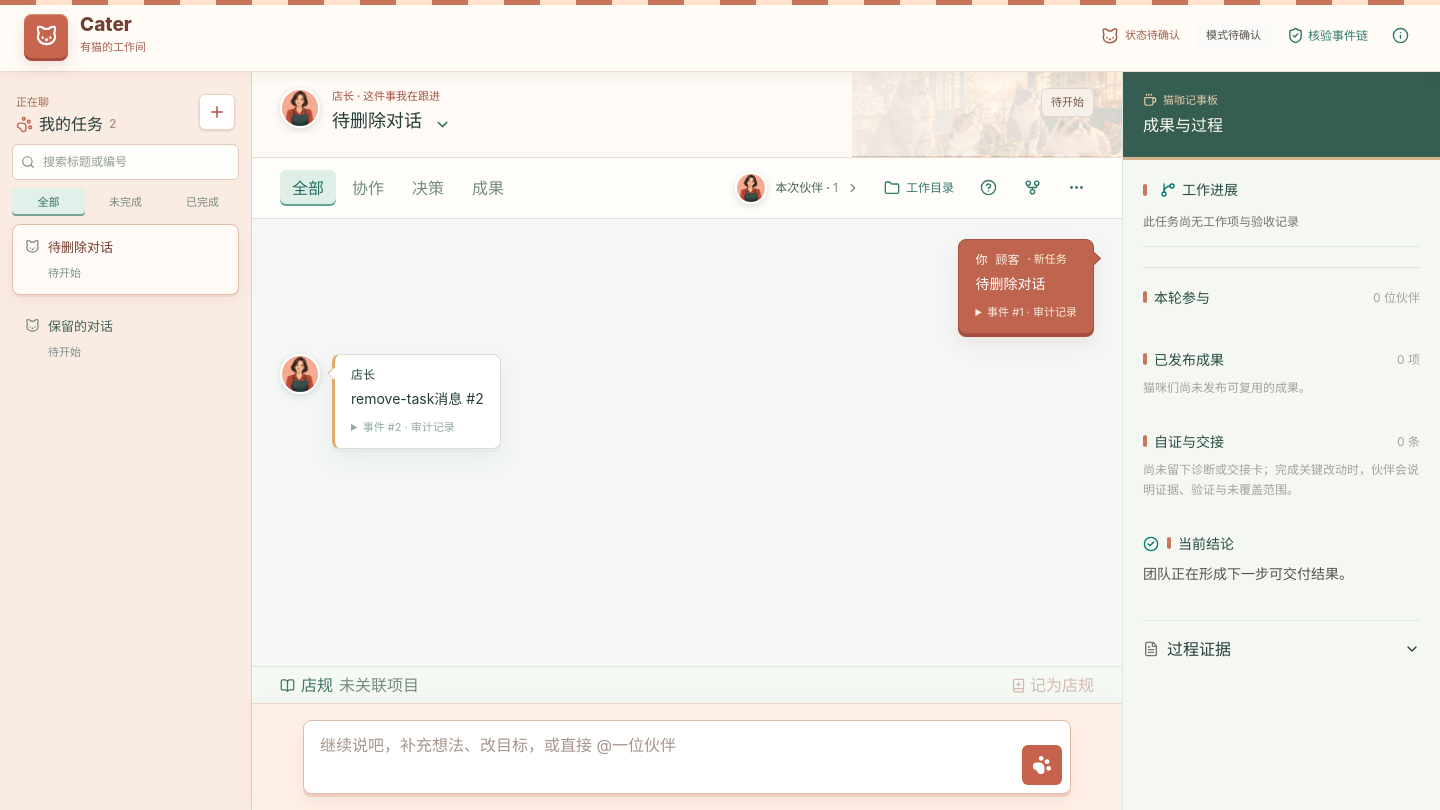
Test: 未知删除 ack 不隐藏或清除输入，重试保留原请求：{}
Type "不能丢失的草稿" into the text box named "向团队发送消息". click: [663, 757]
box: [312,729,1014,785]
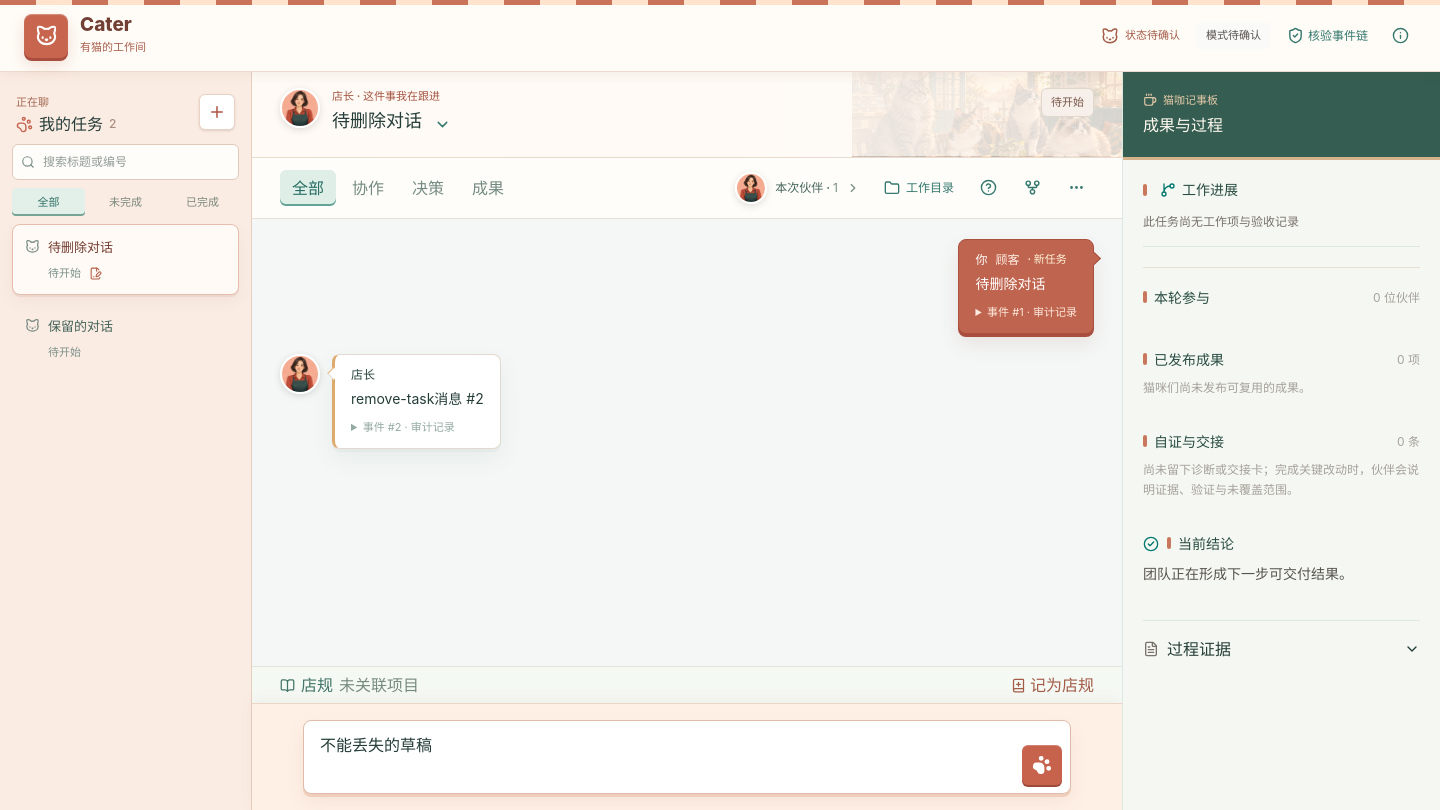
Click the button named "更多任务操作". click: [1076, 188]
box: [1058,170,1094,206]
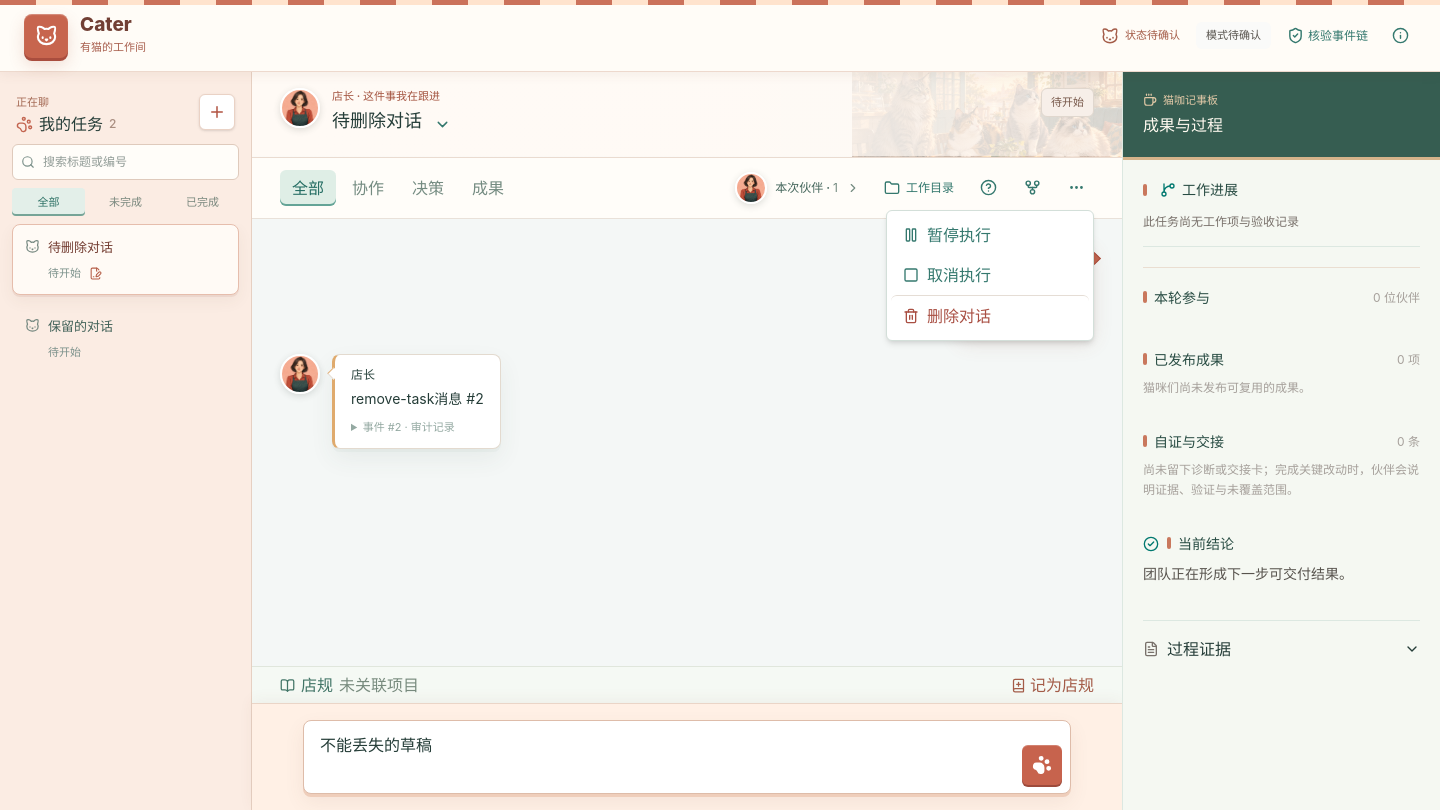
Click the button "删除对话". click: [990, 315]
box: [891,294,1089,336]
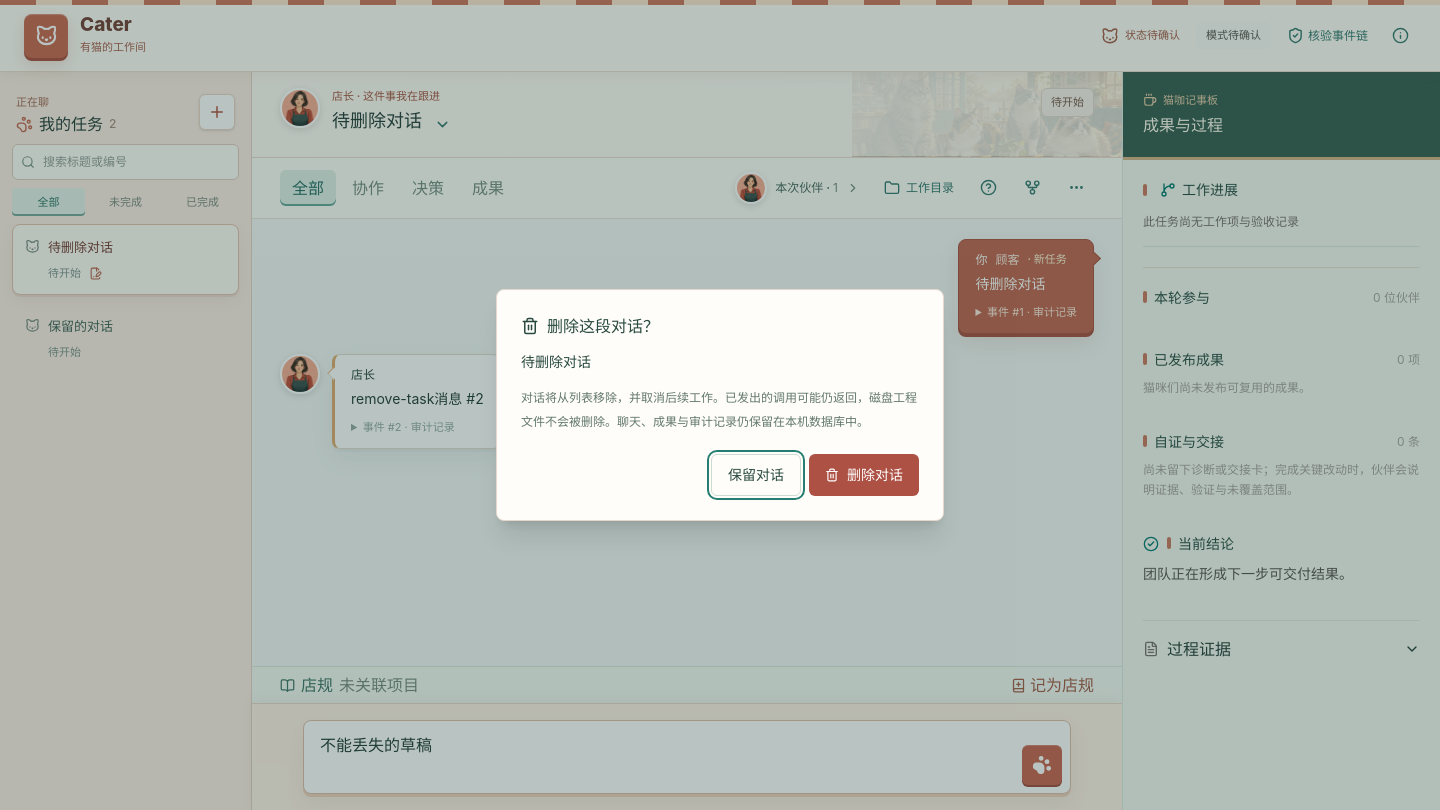
Click the button "删除对话". click: [864, 475]
box: [809,454,919,496]
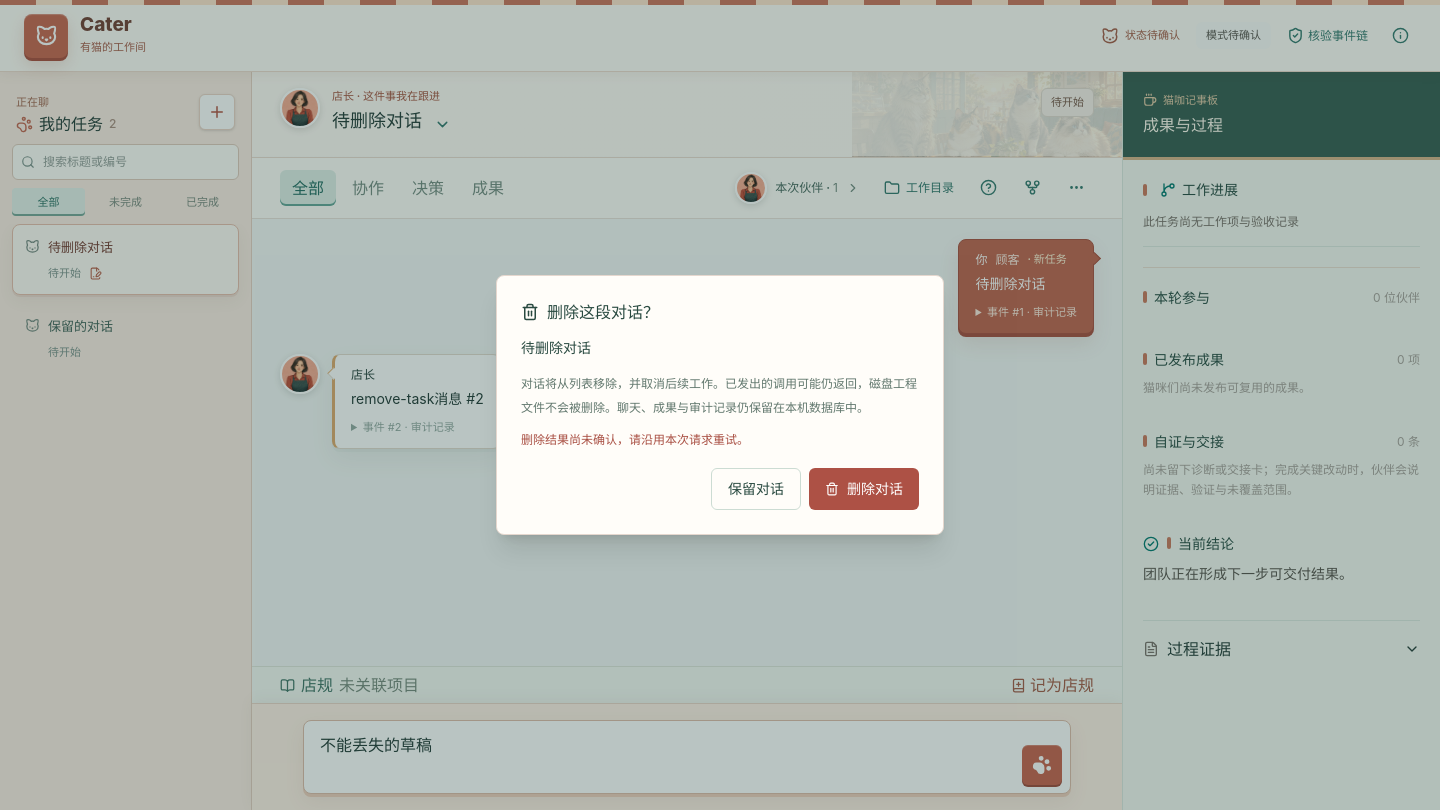
expect the navigation bar named "任务列表" shows "待删除对话": met, box [12,224,239,294]
Click the button "删除对话". click: [864, 489]
box: [809,468,919,510]
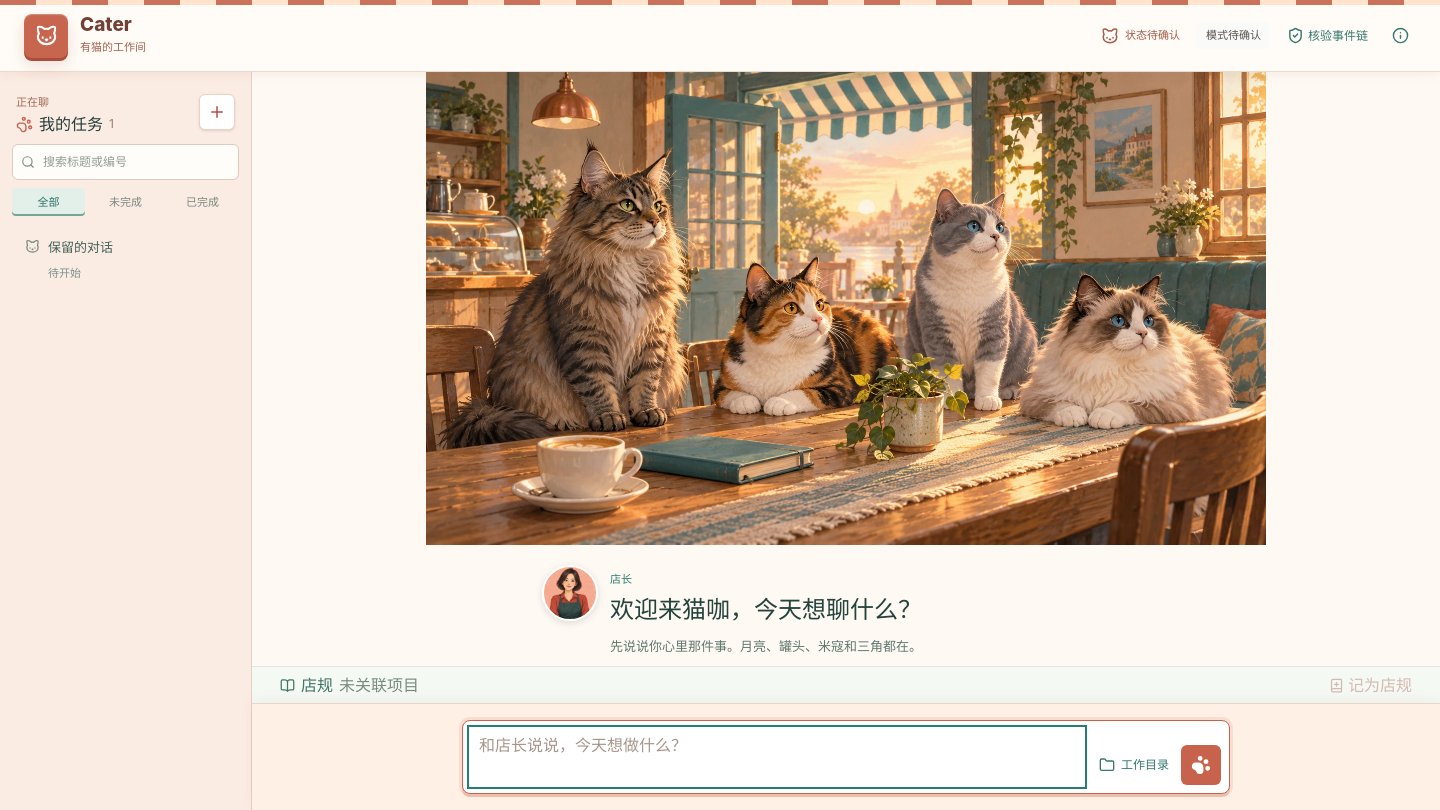
expect the text box labelled "向团队发送消息" is gone: met
expect the text box named "发起任务对话" is shown: met, box [471,729,1083,785]
expect the button "待删除对话" is gone: met
